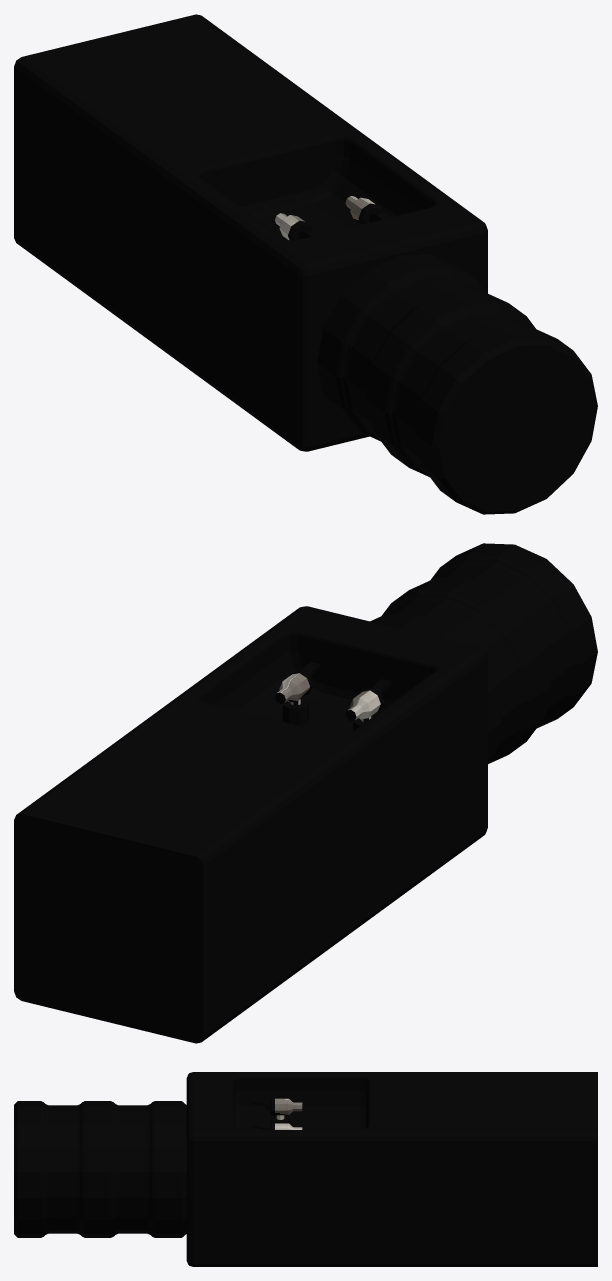
3 renders of one model, top to bottom at view 1: azimuth 30°, elevation 25°; view 2: azimuth 150°, elevation 25°; view 3: azimuth 270°, elevation 25°, orthographic. The views are drawn at different scales.
Size of the model in its own units: 0.3858 by 0.3637 by 1.44.
